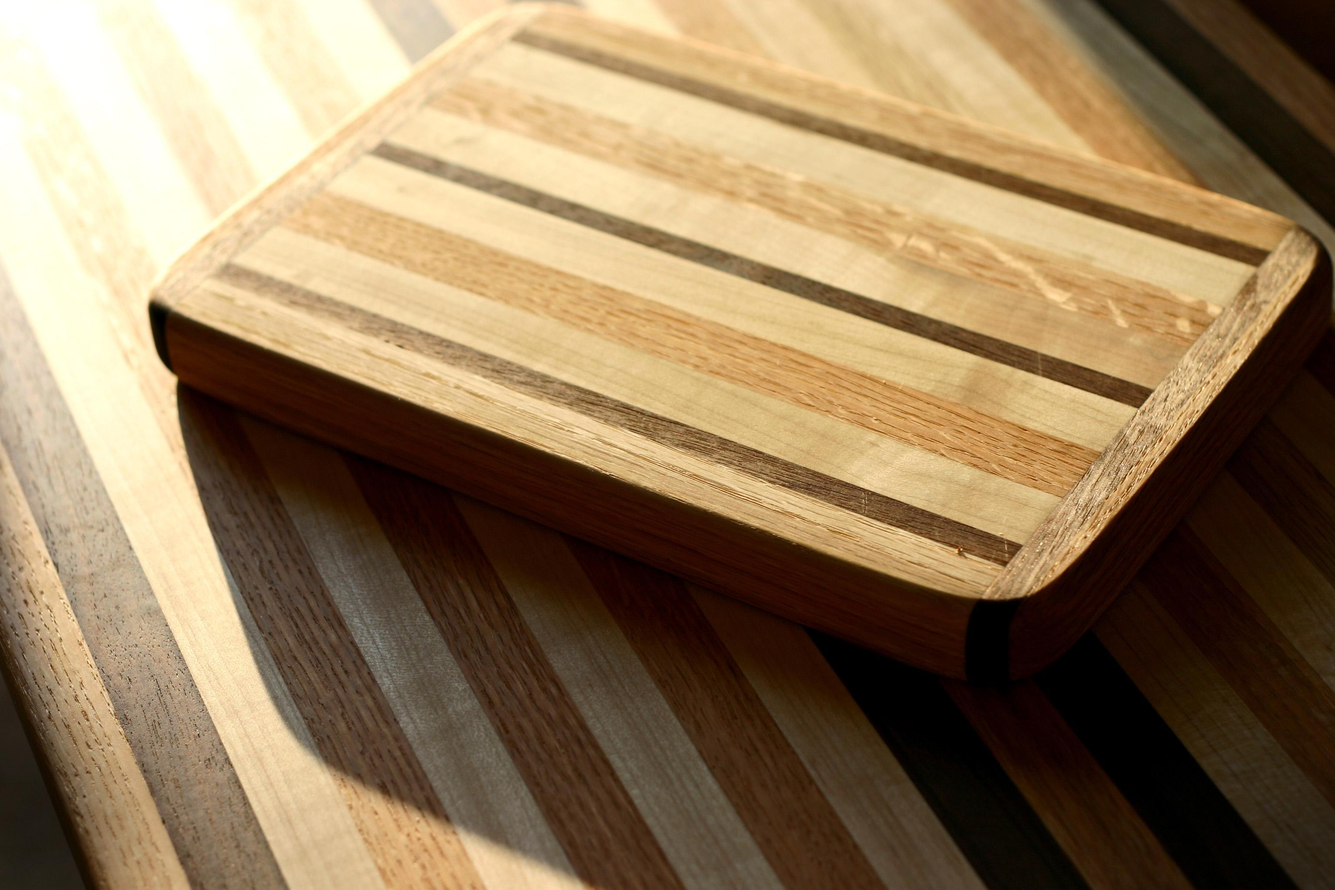gloved_hand: (116, 0, 1332, 685)
